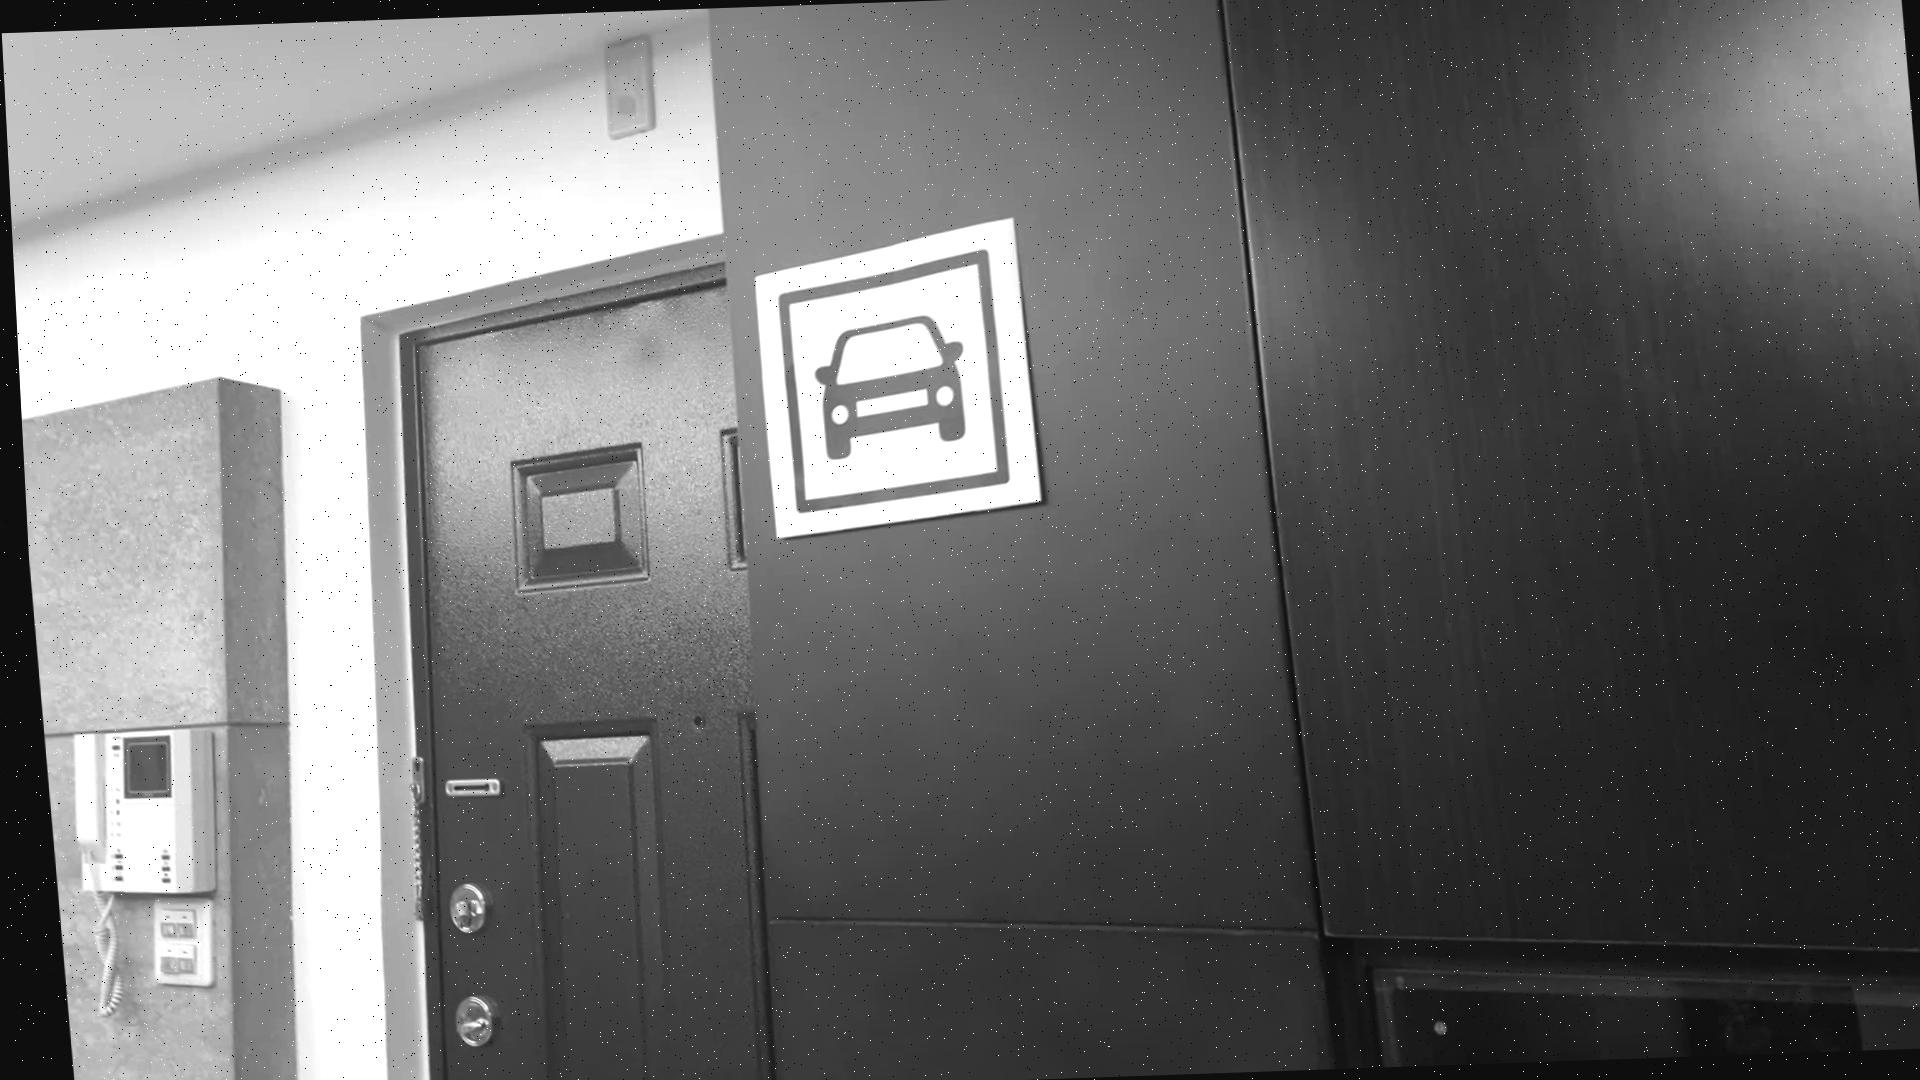car_img: (765, 237, 1014, 524)
